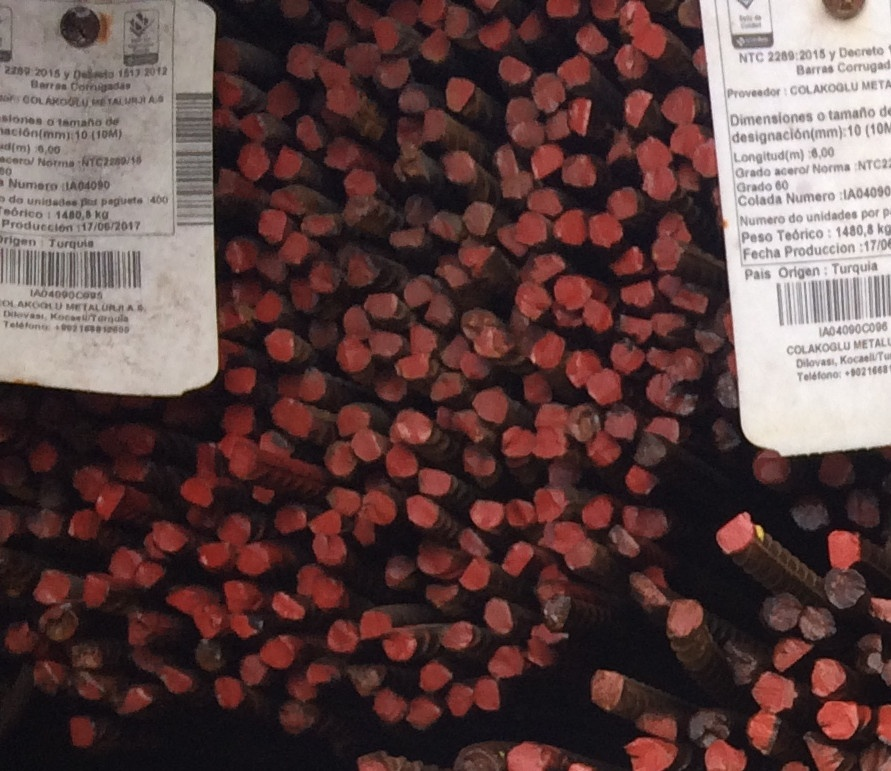dipstick: (817, 699, 858, 742), (750, 672, 795, 711), (824, 569, 867, 609), (628, 739, 678, 771), (716, 513, 754, 552), (41, 604, 79, 642), (810, 658, 847, 697), (666, 600, 703, 638), (624, 506, 669, 537), (763, 593, 800, 630), (590, 669, 625, 708), (748, 714, 781, 755), (506, 742, 552, 771), (725, 642, 756, 685), (532, 331, 566, 370), (392, 410, 432, 443), (827, 529, 860, 568), (801, 605, 836, 641), (661, 87, 695, 124), (690, 711, 727, 745), (817, 453, 855, 486), (168, 586, 219, 610), (772, 640, 811, 671), (705, 741, 745, 771), (636, 136, 671, 170), (278, 703, 314, 736), (5, 621, 38, 657), (238, 144, 270, 181), (567, 404, 599, 441), (847, 491, 879, 528), (541, 525, 584, 552), (669, 347, 703, 381), (612, 343, 646, 377), (754, 450, 788, 484), (631, 24, 666, 57), (474, 388, 507, 423), (35, 570, 70, 603), (805, 740, 842, 771), (327, 87, 365, 117), (588, 214, 622, 247), (588, 371, 622, 404), (567, 353, 600, 387), (406, 495, 440, 528), (363, 491, 397, 524), (225, 238, 257, 273), (534, 76, 564, 113), (791, 500, 828, 530), (267, 82, 299, 116), (643, 168, 677, 200), (669, 126, 703, 158), (32, 659, 64, 693), (630, 576, 664, 608), (271, 184, 306, 215), (344, 256, 379, 287), (587, 434, 622, 465), (475, 330, 515, 357), (311, 534, 347, 564), (213, 35, 242, 72), (555, 279, 592, 308), (348, 664, 385, 693), (408, 698, 441, 730), (453, 747, 497, 771), (346, 43, 380, 74), (285, 45, 315, 80), (526, 255, 563, 283), (625, 89, 652, 127), (637, 715, 678, 740), (442, 150, 474, 182), (563, 155, 595, 187), (237, 542, 269, 574), (575, 23, 608, 54), (555, 211, 586, 244), (535, 491, 568, 522), (419, 662, 452, 693), (502, 543, 533, 576), (342, 196, 376, 226), (339, 337, 369, 371), (487, 647, 521, 677), (464, 201, 493, 236), (460, 247, 495, 276), (273, 505, 308, 534), (583, 495, 612, 530), (616, 47, 647, 79), (604, 405, 635, 437), (471, 500, 504, 530), (374, 689, 407, 719), (459, 557, 489, 590), (213, 74, 242, 108), (619, 1, 648, 35), (328, 620, 357, 654), (114, 455, 155, 479), (216, 515, 251, 543), (447, 77, 474, 113), (324, 139, 357, 168), (658, 211, 691, 240), (453, 410, 482, 443), (428, 372, 461, 401), (633, 436, 666, 465), (221, 406, 254, 435), (257, 209, 285, 243), (327, 443, 355, 477), (153, 522, 187, 550), (417, 547, 452, 574), (118, 688, 153, 715), (532, 146, 562, 177), (518, 285, 549, 315), (535, 428, 565, 459), (386, 447, 417, 477), (263, 638, 294, 668), (309, 263, 341, 292), (611, 247, 643, 276), (110, 547, 139, 579), (336, 406, 369, 434), (418, 469, 451, 497), (386, 557, 419, 585), (528, 188, 562, 215), (29, 510, 63, 537), (485, 598, 512, 632), (297, 115, 322, 151), (549, 453, 579, 483), (75, 470, 105, 500), (214, 677, 244, 707), (379, 59, 410, 88), (266, 331, 295, 362), (502, 428, 533, 457), (30, 441, 59, 472), (274, 147, 302, 179), (430, 211, 462, 239), (499, 57, 531, 85), (36, 479, 68, 507), (360, 611, 392, 639), (384, 634, 416, 662), (461, 309, 494, 336), (619, 315, 652, 342), (180, 479, 213, 506), (423, 109, 449, 143), (70, 643, 104, 669), (404, 195, 433, 225), (307, 322, 337, 351), (558, 56, 589, 84), (440, 337, 468, 368), (473, 680, 501, 711), (653, 239, 680, 271), (674, 290, 710, 314), (126, 429, 158, 456), (344, 169, 377, 195), (448, 684, 474, 717), (364, 292, 398, 317), (223, 582, 248, 616), (377, 371, 406, 400), (611, 528, 640, 557), (195, 642, 224, 671), (529, 642, 558, 671), (478, 17, 508, 45), (568, 99, 592, 134), (519, 214, 547, 244), (620, 282, 655, 306), (652, 313, 687, 337), (525, 374, 553, 404), (501, 172, 532, 199), (609, 186, 636, 217), (585, 302, 612, 333), (327, 487, 358, 514), (195, 611, 222, 642), (75, 673, 106, 700), (568, 540, 595, 571), (343, 308, 369, 340), (224, 368, 256, 394), (647, 416, 679, 442), (198, 542, 230, 568), (98, 485, 126, 514), (241, 113, 268, 143), (370, 330, 400, 357), (465, 447, 495, 474), (271, 593, 302, 619), (390, 226, 425, 249), (435, 264, 470, 287), (646, 376, 669, 411), (218, 305, 251, 329), (301, 368, 325, 401), (714, 419, 738, 452), (420, 32, 448, 60), (291, 280, 319, 308), (70, 509, 98, 537), (395, 119, 422, 148), (428, 295, 455, 324), (353, 432, 380, 461), (295, 568, 324, 595), (315, 580, 342, 609), (543, 597, 572, 624), (851, 648, 880, 675), (320, 61, 350, 87), (374, 21, 400, 51), (505, 98, 535, 124), (286, 674, 316, 700), (695, 141, 716, 178), (627, 468, 658, 493), (441, 621, 472, 646), (495, 145, 519, 177), (286, 405, 310, 437), (159, 668, 191, 692), (518, 11, 541, 44), (399, 87, 427, 114), (280, 235, 307, 263), (506, 499, 533, 527), (460, 528, 487, 556), (346, 1, 376, 26), (514, 121, 544, 146), (84, 577, 109, 607), (395, 355, 426, 379), (667, 392, 698, 416), (311, 511, 342, 535), (228, 617, 259, 641), (394, 148, 417, 180), (72, 716, 95, 748), (405, 280, 432, 307), (496, 223, 521, 252), (301, 215, 337, 235), (534, 405, 564, 429), (231, 445, 254, 476), (410, 327, 436, 354), (269, 399, 295, 426), (130, 614, 154, 643), (309, 663, 342, 684), (543, 1, 579, 20), (261, 431, 287, 457), (213, 107, 241, 131), (717, 374, 736, 409), (694, 331, 724, 353), (241, 656, 263, 686), (462, 355, 493, 376), (607, 132, 632, 158), (418, 1, 445, 25), (214, 169, 238, 196), (135, 565, 163, 588), (445, 7, 467, 36), (258, 292, 280, 321), (197, 444, 216, 477), (425, 586, 458, 605), (259, 258, 285, 282), (133, 652, 164, 672), (529, 627, 570, 642), (678, 166, 698, 196), (186, 508, 216, 528), (390, 1, 417, 23), (325, 21, 346, 49), (547, 112, 567, 141), (647, 346, 669, 372), (353, 517, 373, 545), (277, 371, 299, 396), (279, 1, 309, 19), (219, 435, 244, 456), (536, 581, 565, 599), (592, 1, 618, 20), (555, 309, 582, 327), (659, 274, 680, 295), (251, 483, 275, 501), (857, 633, 881, 650), (649, 565, 664, 588)
